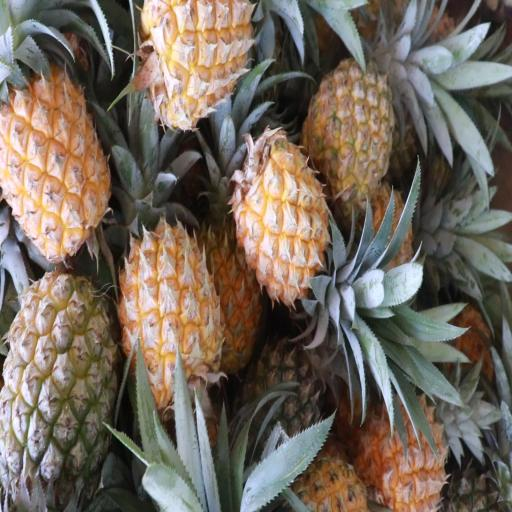------------------------------: (0, 280, 112, 508), (305, 60, 394, 204)
Pineapple - v8 v1: (0, 75, 110, 258), (123, 226, 223, 402), (236, 134, 328, 304), (142, 0, 253, 124), (361, 385, 448, 511), (200, 225, 264, 379)
